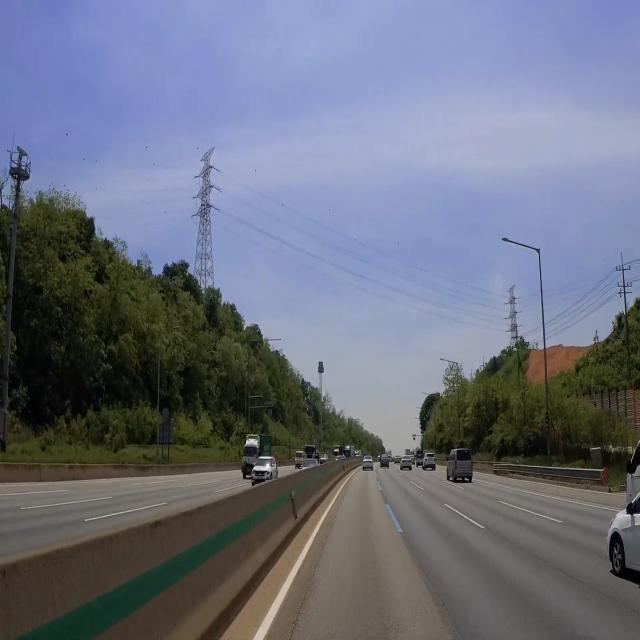car: (427, 456, 435, 470), (459, 467, 470, 477), (245, 465, 253, 477), (403, 460, 411, 472), (255, 474, 264, 484), (364, 460, 372, 469), (382, 458, 389, 466)
